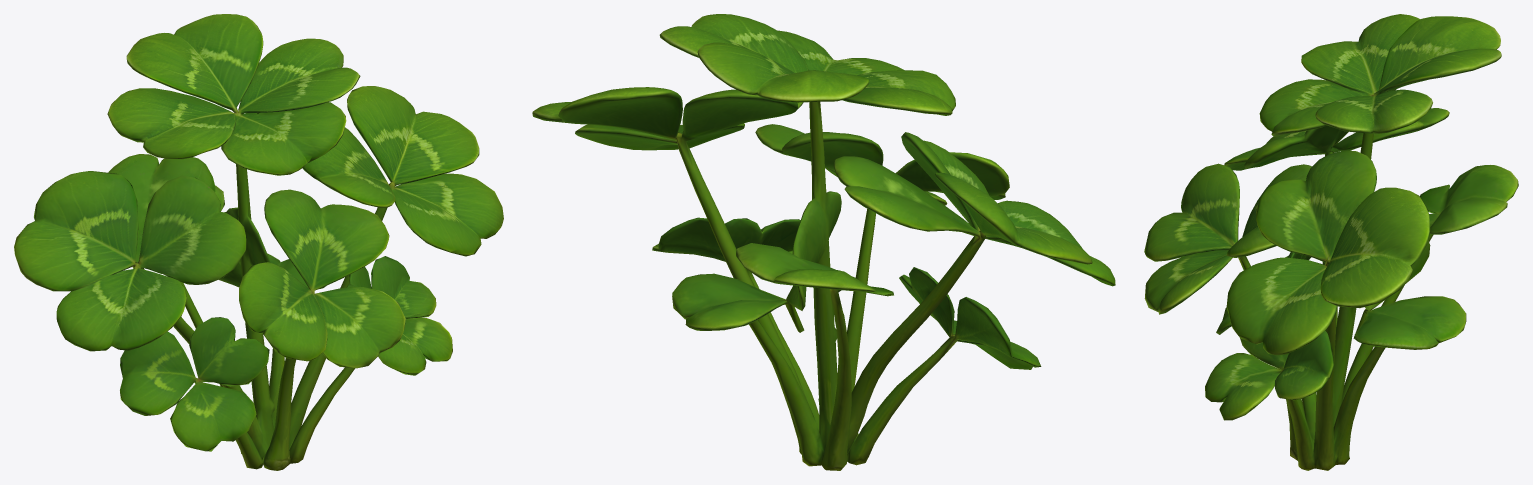
Rendered from source_2.glb.
3 renders of one model, left to right at view 1: azimuth 30°, elevation 25°; view 2: azimuth 150°, elevation 25°; view 3: azimuth 270°, elevation 25°, orthographic. The views are drawn at different scales.
Parts seen in each view (by area): view 1: tripo_node_60b11476-4fd0-4bad-8e04-cf97fe98372d; view 2: tripo_node_60b11476-4fd0-4bad-8e04-cf97fe98372d; view 3: tripo_node_60b11476-4fd0-4bad-8e04-cf97fe98372d.
Boxes of the visible parts, box(x1,y1,x2,y2) form: tripo_node_60b11476-4fd0-4bad-8e04-cf97fe98372d: box(14, 14, 503, 470); tripo_node_60b11476-4fd0-4bad-8e04-cf97fe98372d: box(532, 14, 1115, 470); tripo_node_60b11476-4fd0-4bad-8e04-cf97fe98372d: box(1144, 14, 1518, 470).
Bounding box in the file's own units: 0.9814 × 0.7893 × 0.6431.
1 material, 1 textured.
